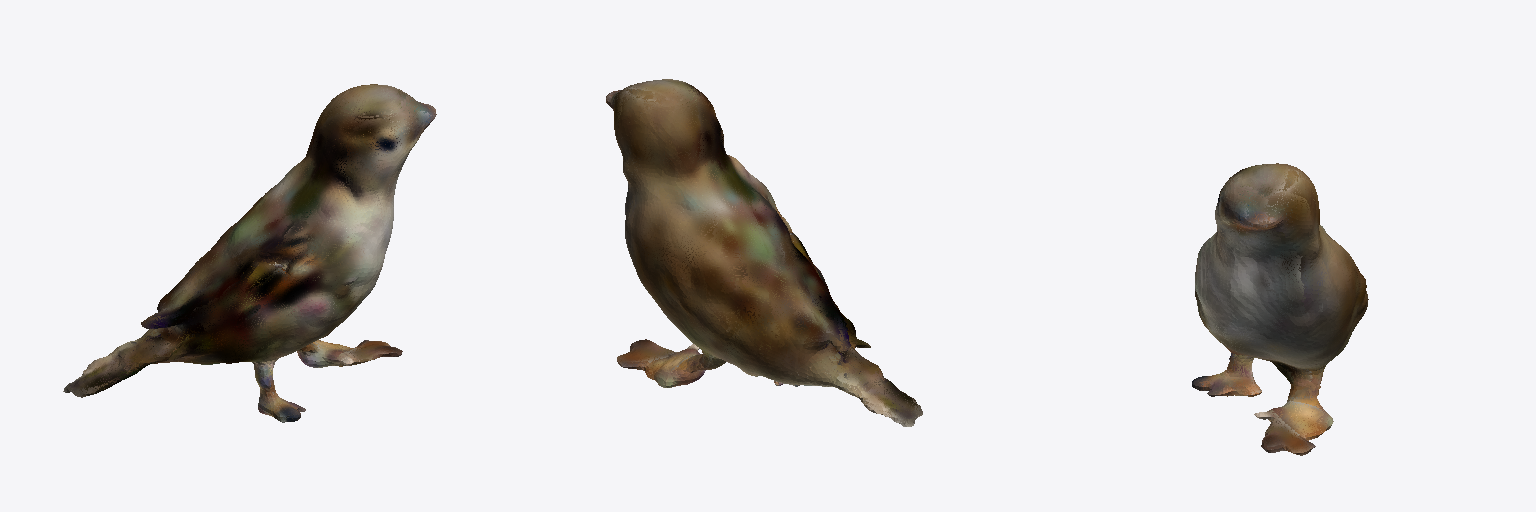
3 views of the same model, side by side, from view 1: azimuth 30°, elevation 25°; view 2: azimuth 150°, elevation 25°; view 3: azimuth 270°, elevation 25° (orthographic).
Bounding box in the file's own units: 1.19 × 0.9479 × 0.5381.
1 materials, 1 textured.